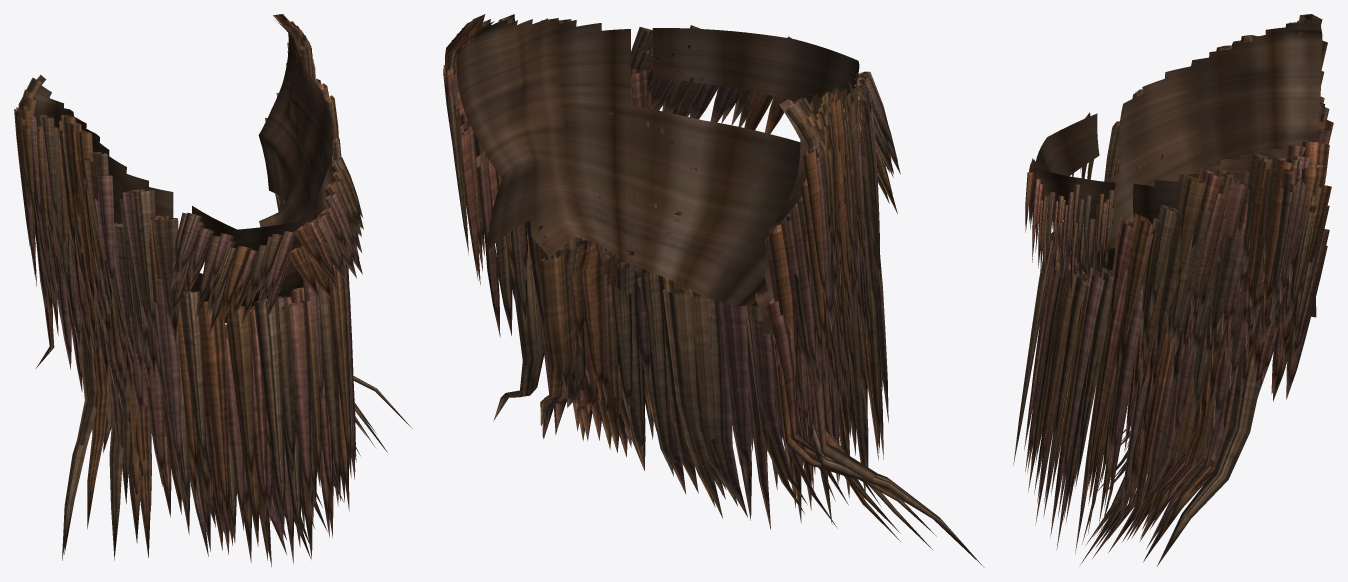
File: longa.glb
The picture shows the model from 3 angles, left to right: view 1: azimuth 30°, elevation 25°; view 2: azimuth 150°, elevation 25°; view 3: azimuth 270°, elevation 25°; orthographic projection. The views are drawn at different scales.
Visible parts, largest first — view 1: barba_longa; view 2: barba_longa; view 3: barba_longa.
Part boxes in pixels (x1,y1,x2,y2): barba_longa: (14,14,412,566); barba_longa: (443,14,984,567); barba_longa: (1013,14,1333,566).
Size of the model in its own units: 0.2579 by 0.2992 by 0.1854.
1 material, 1 textured.
